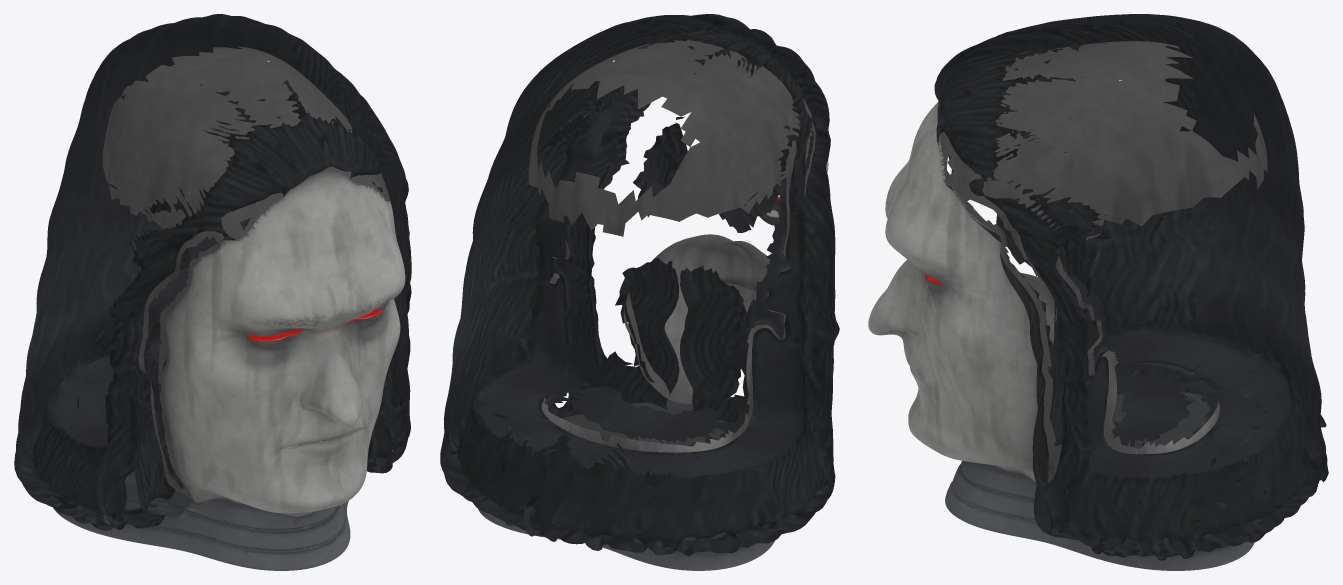
Rendered from faust_head.8a7f5d10.glb.
The picture shows the model from 3 angles, left to right: view 1: azimuth 30°, elevation 25°; view 2: azimuth 150°, elevation 25°; view 3: azimuth 270°, elevation 25°; orthographic projection. The views are drawn at different scales.
Parts seen in each view (by area): view 1: lod0; view 2: lod0; view 3: lod0.
Part boxes in pixels (box(x1,y1,x2,y2)): lod0: box(14, 14, 411, 570); lod0: box(440, 14, 839, 570); lod0: box(868, 14, 1328, 570).
Size of what is drawn, in the model's own units: 720 by 897 by 785.
Materials: 1 (1 with a texture image).
